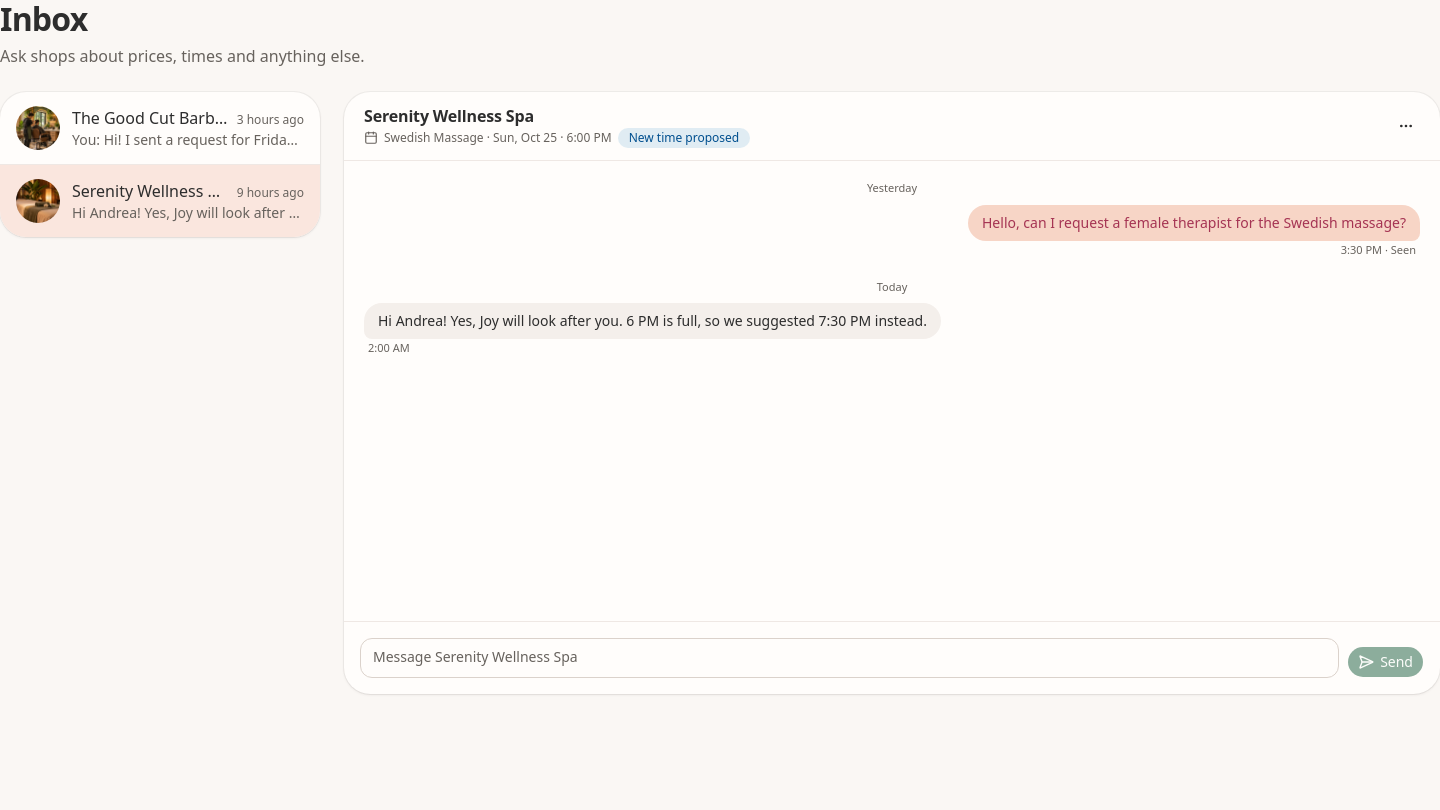
InboxPage (customer) › reports a conversation with a reason
Click the button named "Conversation options" at [1406, 126], box [1392,112,1420,140]
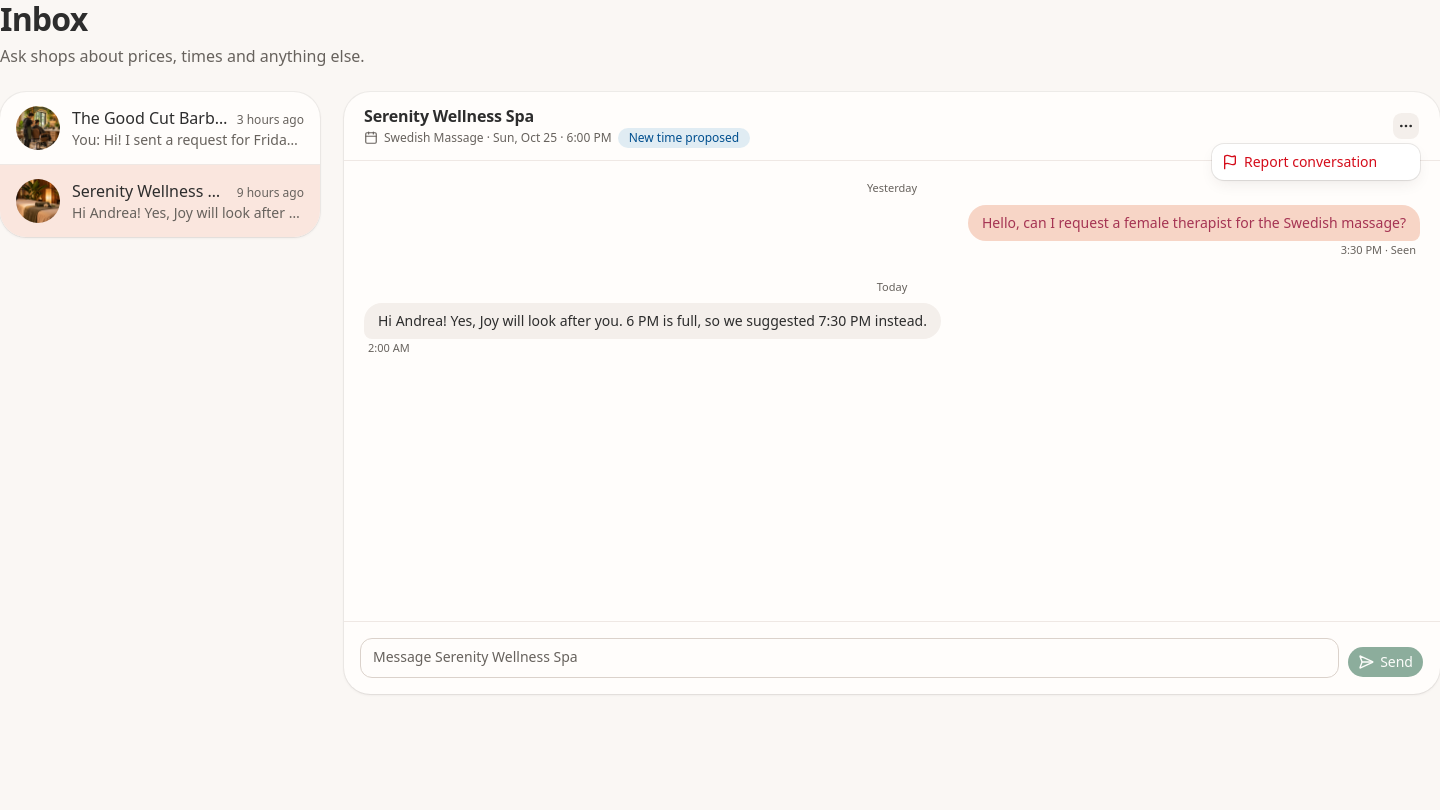
Click the menu item "Report conversation" at [1300, 162], box [1222,152,1377,171]
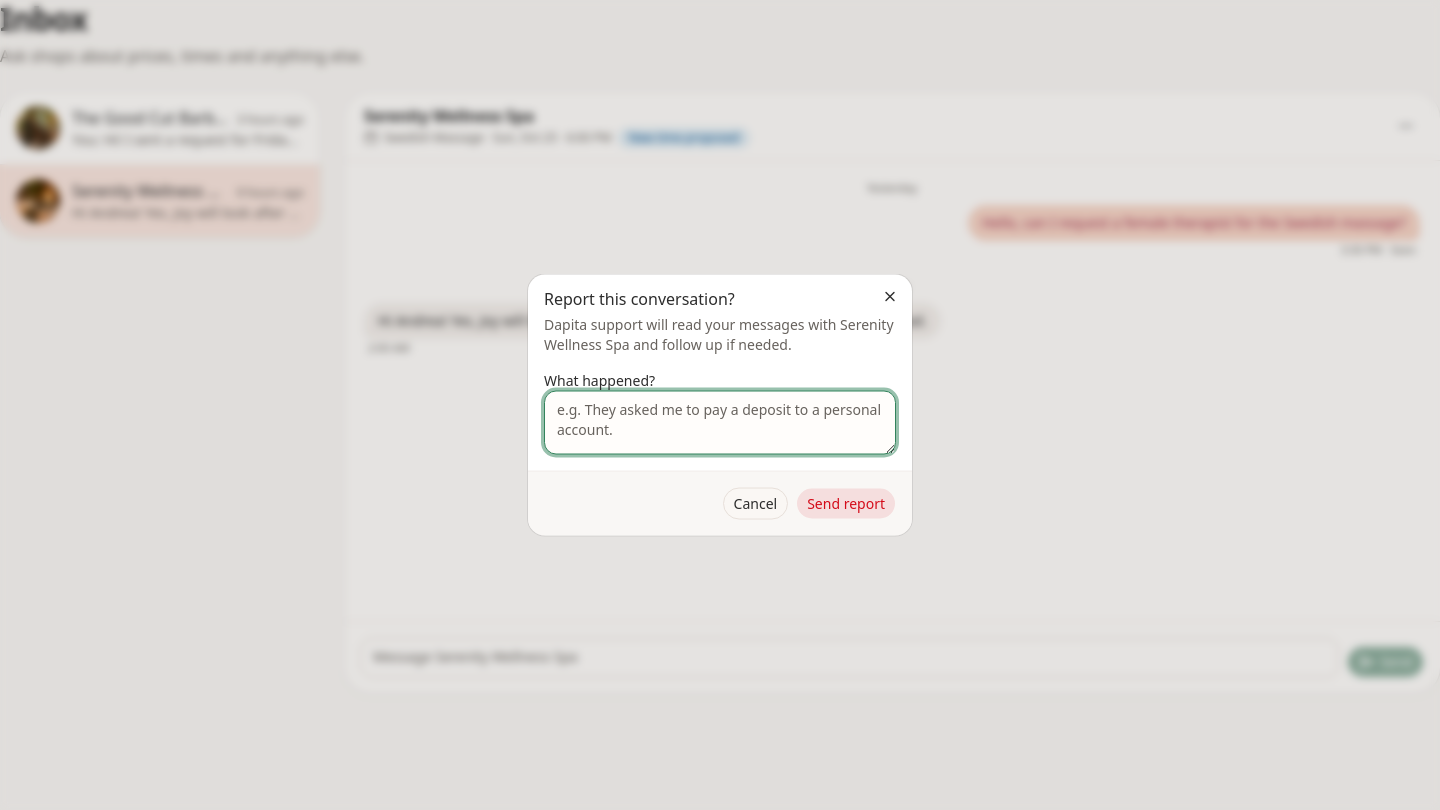
Click the button "Send report" at [846, 504], box [796,488,896,520]
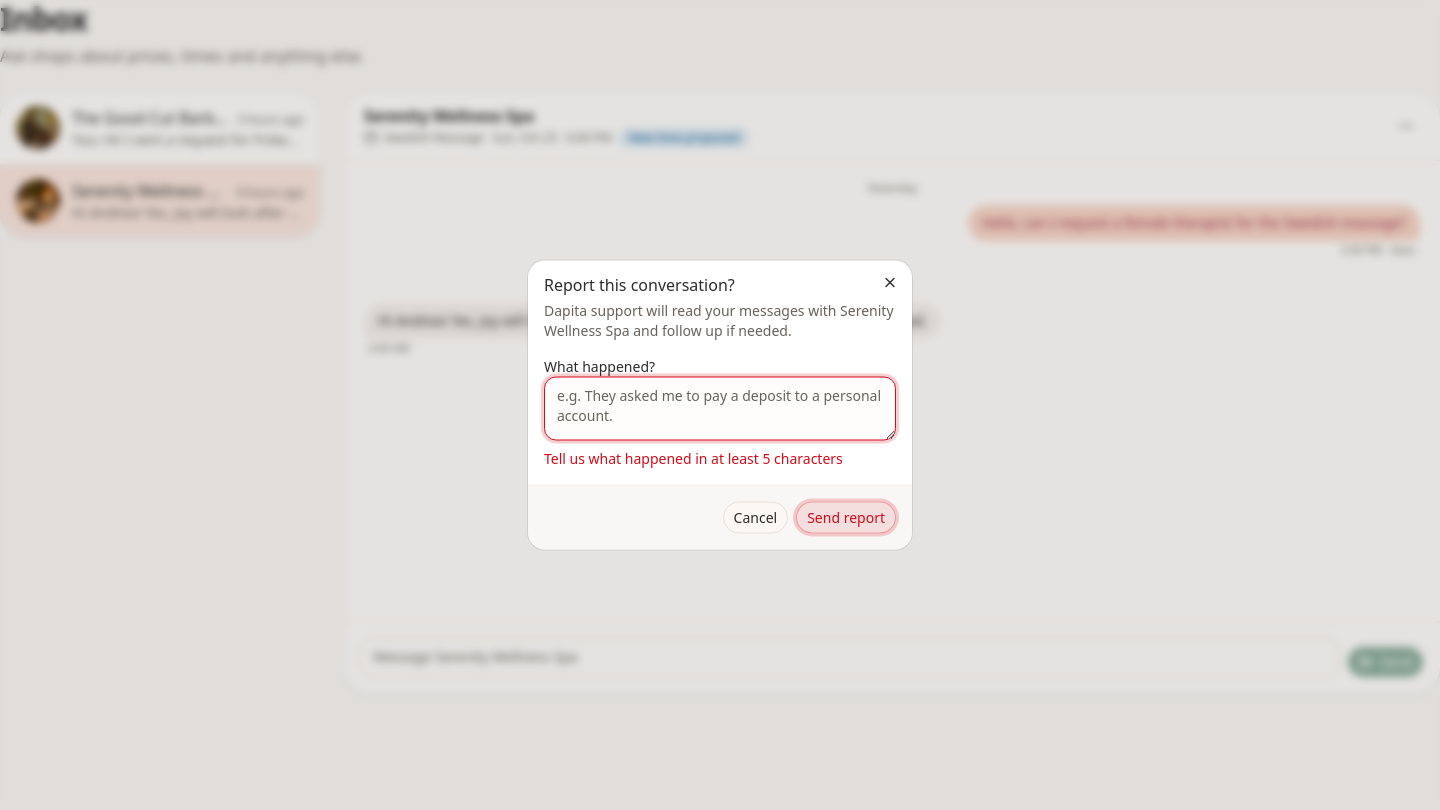
Check: the text "Tell us what happened in at least 5 characters" is shown, box [544,448,843,468]
Type "Asked me to pay outside the app." into the text box labelled "What happened?" at [720, 408], box [544,376,896,440]
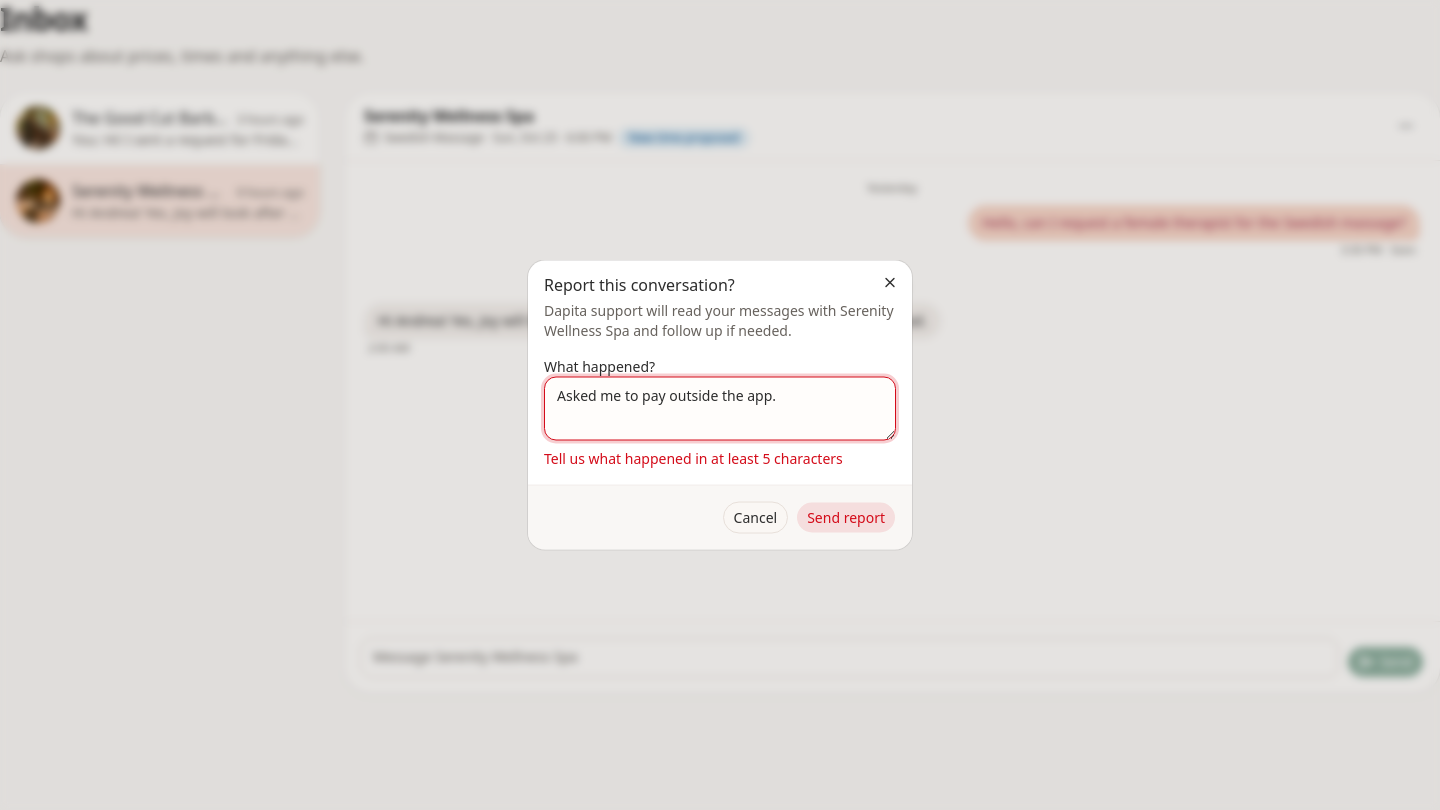
Click the button "Send report" at [846, 518], box [796,502,896,534]
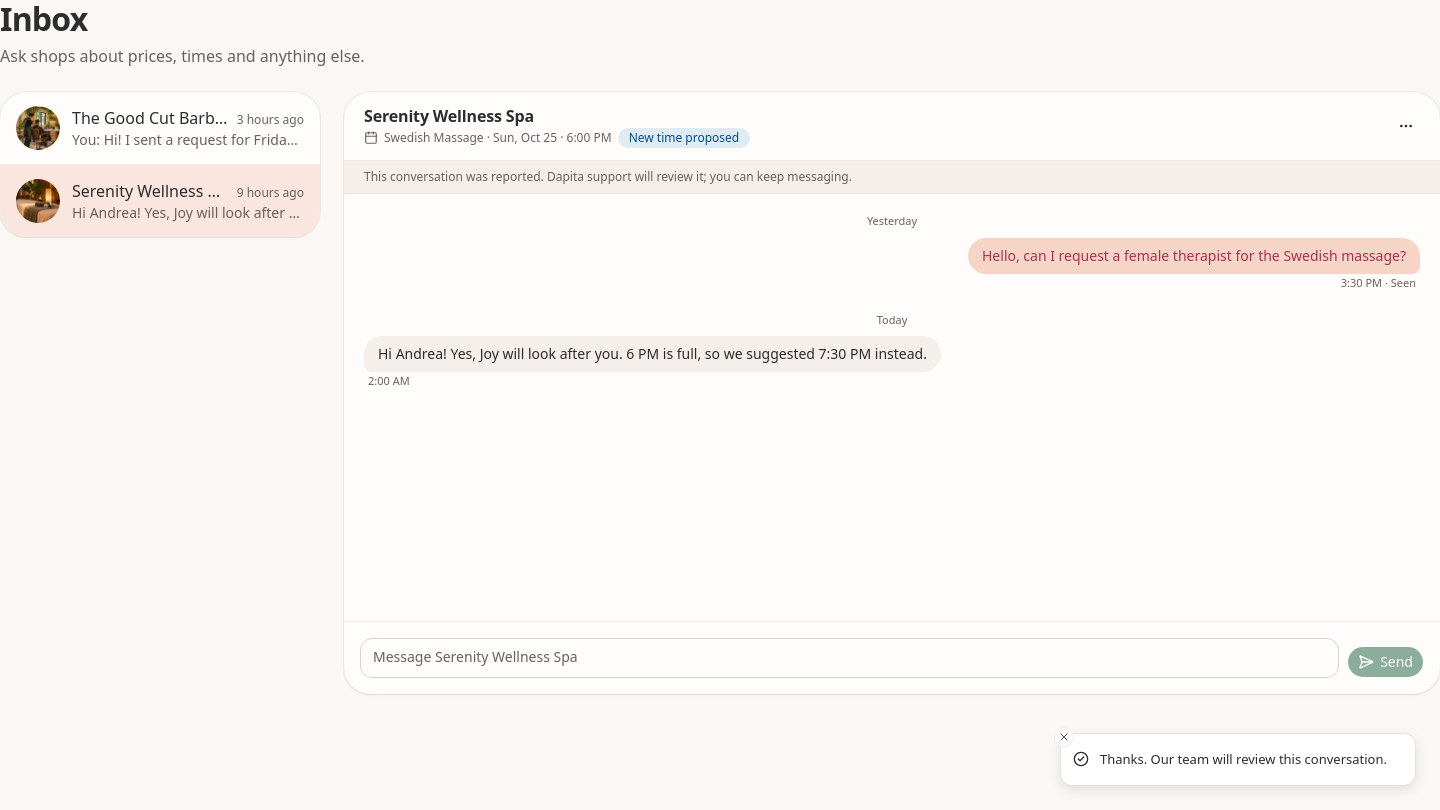
Check: the text "Thanks. Our team will review this conversation." is shown, box [1100,750,1387,769]
Check: the text "This conversation was reported" is shown, box [364,168,852,185]
